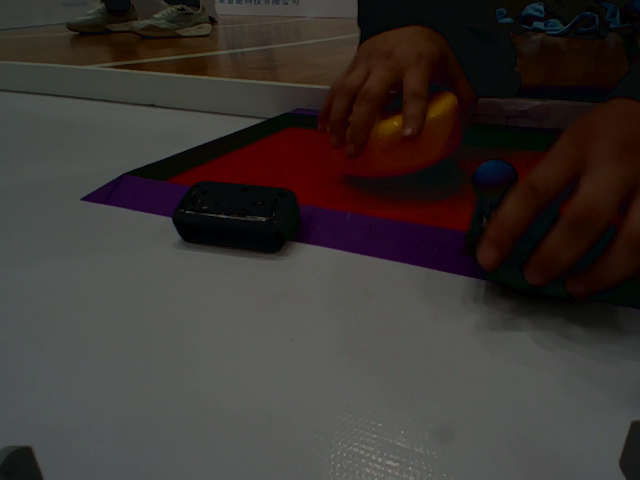black: (172, 177, 316, 265)
blue: (468, 158, 515, 208)
kuang: (95, 107, 640, 317)
yellow: (305, 70, 488, 180)
